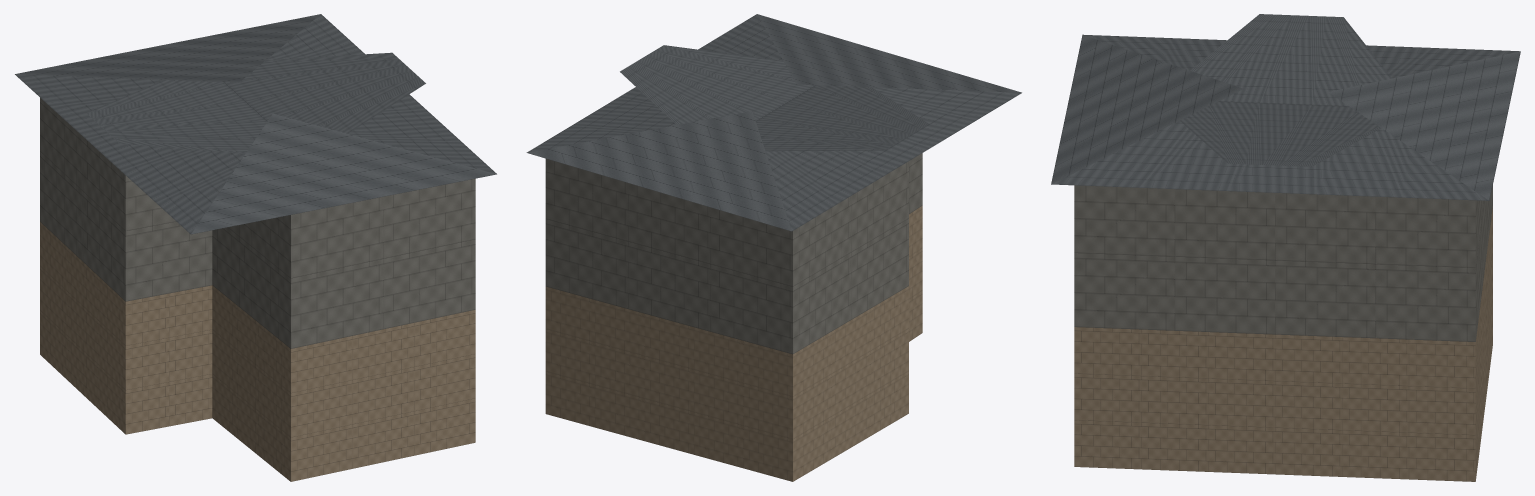
Rendered from bld_c-1_-23_743.gltf.
3 renders of one model, left to right at view 1: azimuth 30°, elevation 25°; view 2: azimuth 150°, elevation 25°; view 3: azimuth 270°, elevation 25°, orthographic. The views are drawn at different scales.
Parts seen in each view (by area): view 1: bld_c-1_-23_743; view 2: bld_c-1_-23_743; view 3: bld_c-1_-23_743.
Part boxes in pixels (<box>): bld_c-1_-23_743: <box>15,14,496,481</box>; bld_c-1_-23_743: <box>526,14,1021,481</box>; bld_c-1_-23_743: <box>1051,14,1520,481</box>.
Size of the model in its own units: 12.99 by 11.5 by 15.53.
Materials: 3 (3 with a texture image).
